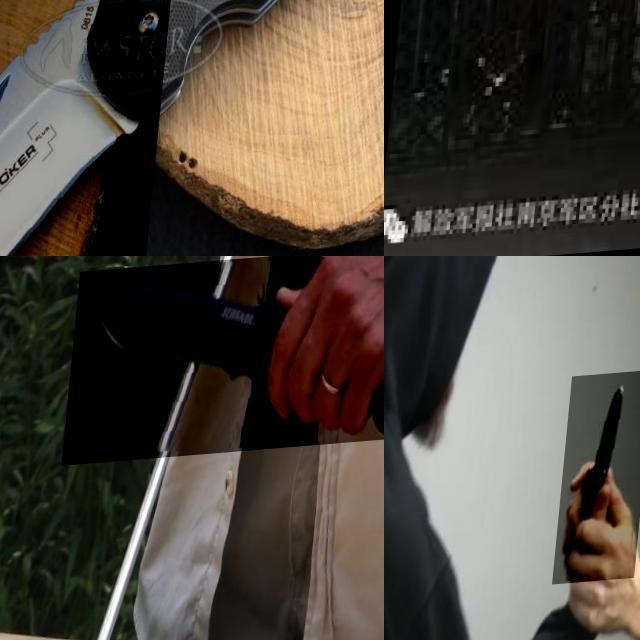-: (67, 256, 384, 468), (0, 0, 179, 256), (559, 377, 640, 590)
gun-knife-thesis - v11 Yolov5 augmented: (384, 0, 542, 256)
